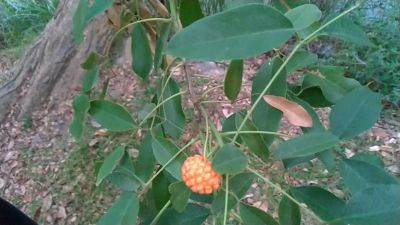eggs: (183, 151, 220, 194)
